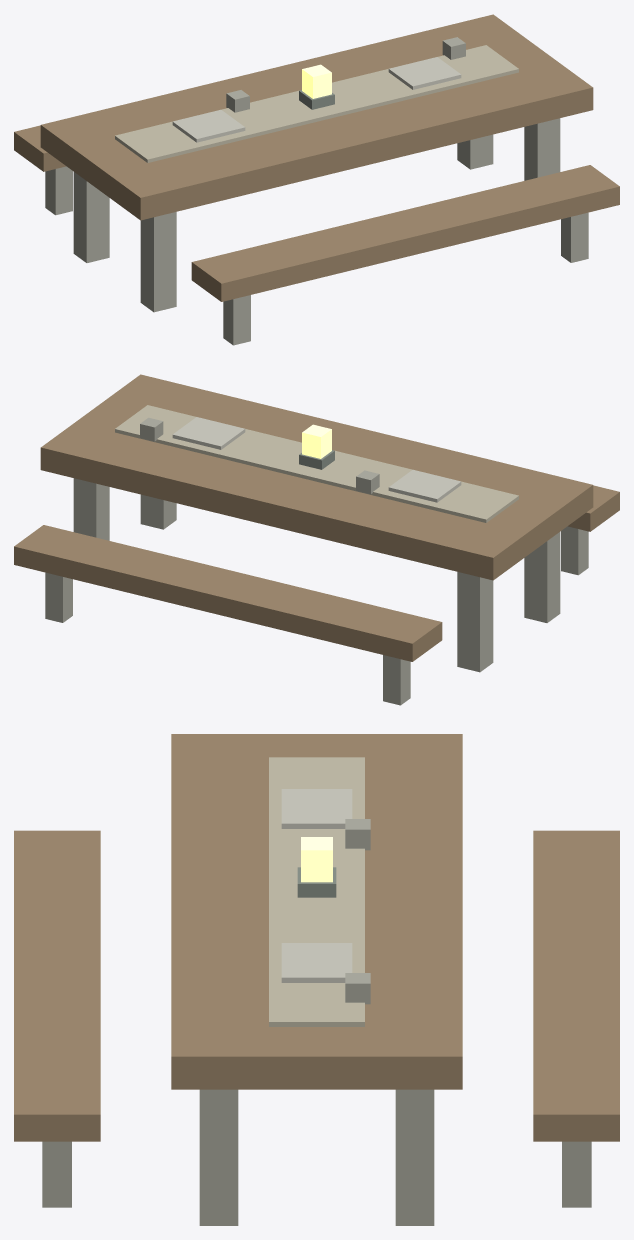
File: shelter_mess_table.glb
The picture shows the model from 3 angles, top to bottom: view 1: azimuth 30°, elevation 25°; view 2: azimuth 150°, elevation 25°; view 3: azimuth 270°, elevation 25°; orthographic projection. The views are drawn at different scales.
Parts seen in each view (by area): view 1: oak table top, bench seat.001, inset table runner, table leg.001, table leg, table leg.003, enamel plate, enamel plate.001, bench leg.003, bench leg.002, bench leg, bench seat (+2 smaller); view 2: oak table top, bench seat, inset table runner, table leg, table leg.001, table leg.002, enamel plate, enamel plate.001, bench leg.001, bench leg, bench leg.002, bench seat.001 (+4 smaller); view 3: oak table top, bench seat, bench seat.001, inset table runner, table leg.002, table leg.003, enamel plate, enamel plate.001, bench leg.001, bench leg.003, shared lamp glow, tin cup (+2 smaller).
Boxes of the visible parts, box(x1,y1,x2,y2) form: oak table top: box(40, 14, 593, 220); bench seat.001: box(191, 165, 619, 301); inset table runner: box(115, 45, 518, 162); table leg.001: box(140, 212, 176, 312); table leg: box(73, 172, 109, 262); table leg.003: box(524, 118, 560, 180); enamel plate: box(172, 109, 245, 142); enamel plate.001: box(388, 57, 461, 89); bench leg.003: box(561, 212, 588, 262); bench leg.002: box(223, 295, 250, 345); bench leg: box(45, 166, 72, 215); bench seat: box(14, 125, 65, 171); oak table top: box(40, 374, 593, 580); bench seat: box(14, 525, 442, 661); inset table runner: box(115, 405, 518, 522); table leg: box(457, 572, 493, 672); table leg.001: box(524, 532, 560, 622); table leg.002: box(73, 478, 109, 540); enamel plate: box(388, 469, 461, 502); enamel plate.001: box(172, 417, 245, 449); bench leg.001: box(45, 572, 72, 622); bench leg: box(383, 655, 410, 705); bench leg.002: box(561, 526, 588, 575); bench seat.001: box(568, 485, 619, 531); oak table top: box(171, 734, 462, 1089); bench seat: box(533, 830, 619, 1141); bench seat.001: box(14, 830, 100, 1141); inset table runner: box(269, 757, 364, 1026); table leg.002: box(395, 1089, 434, 1225); table leg.003: box(199, 1089, 238, 1225); enamel plate: box(281, 789, 352, 828); enamel plate.001: box(281, 943, 352, 982); bench leg.001: box(562, 1141, 591, 1207); bench leg.003: box(42, 1141, 71, 1207); shared lamp glow: box(301, 837, 332, 882); tin cup: box(345, 819, 370, 850).
Bounding box in the file's own units: 3.35 × 1.15 × 2.66.
